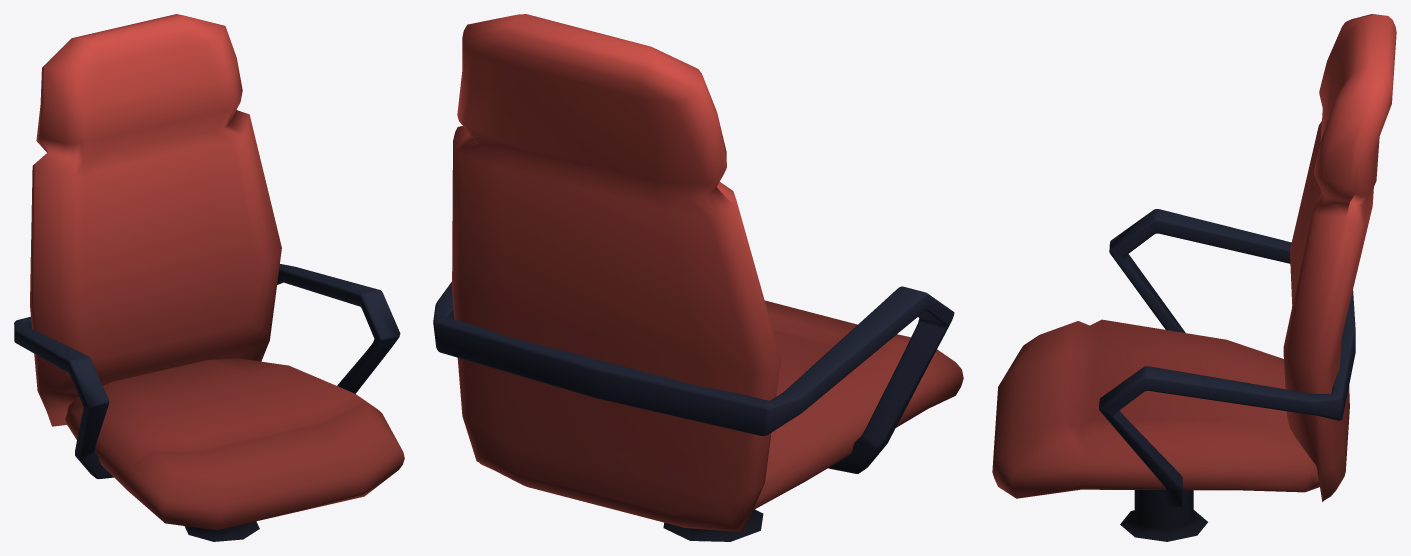
Rendered from Chair.fbx.
3 renders of one model, left to right at view 1: azimuth 30°, elevation 25°; view 2: azimuth 150°, elevation 25°; view 3: azimuth 270°, elevation 25°, orthographic. The views are drawn at different scales.
Parts seen in each view (by area): view 1: Chair_Single_Model; view 2: Chair_Single_Model; view 3: Chair_Single_Model.
Boxes of the visible parts, <box> form: Chair_Single_Model: <box>14,14,404,541</box>; Chair_Single_Model: <box>433,14,963,541</box>; Chair_Single_Model: <box>992,14,1396,541</box>.
Size of the model in its own units: 1.26 by 1.68 by 1.27.
